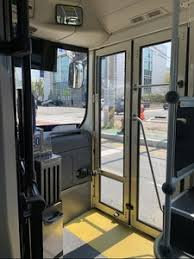exit: (91, 23, 183, 237)
